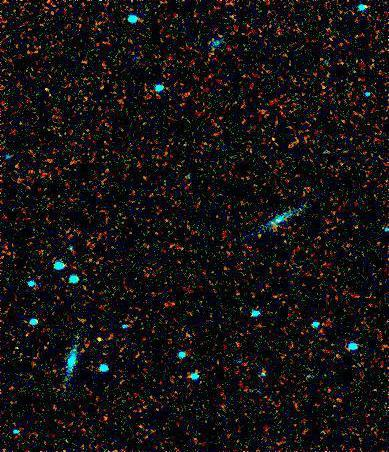star: (84, 325, 114, 355)
